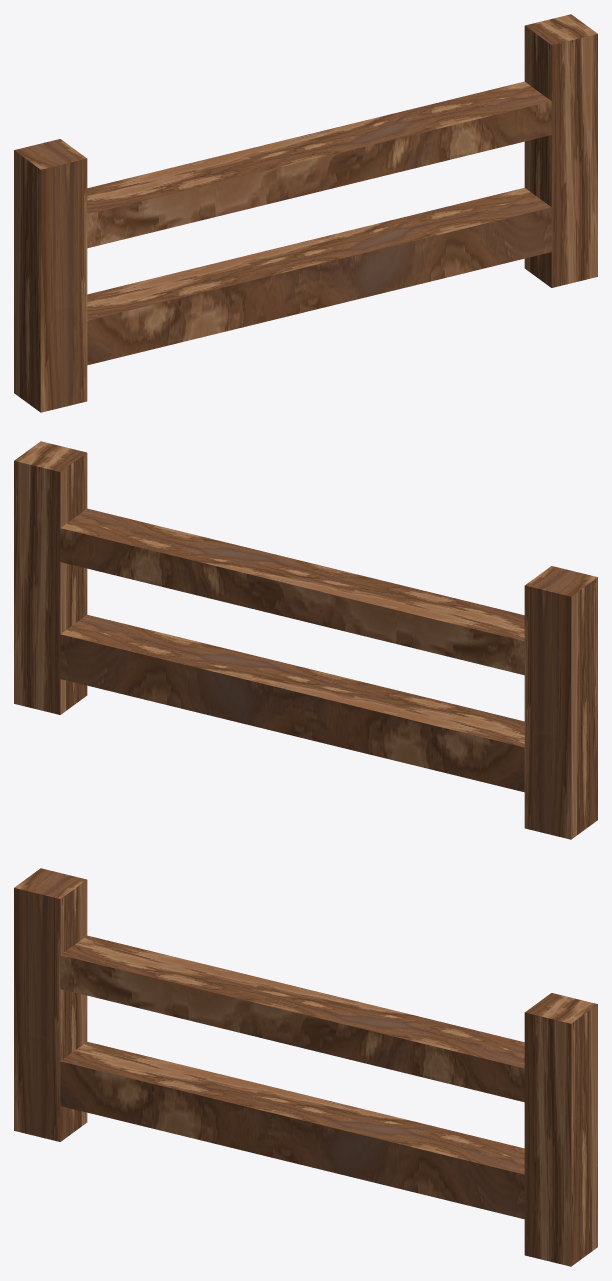
The model's file is fence.glb.
3 views of the same model, one above another, from view 1: azimuth 30°, elevation 25°; view 2: azimuth 150°, elevation 25°; view 3: azimuth 330°, elevation 25° (orthographic).
Bounding box in the file's own units: 7.2 × 3 × 0.6.
1 material, 1 textured.
